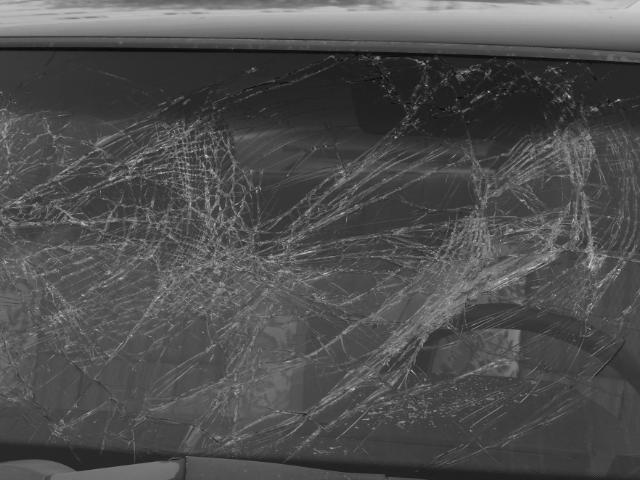Windshield: (0, 40, 640, 470)
